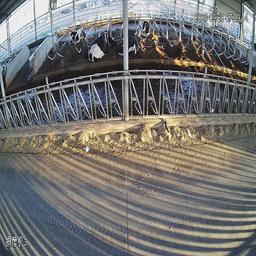cow: (90, 29, 117, 61), (67, 23, 87, 47), (138, 16, 153, 36)
